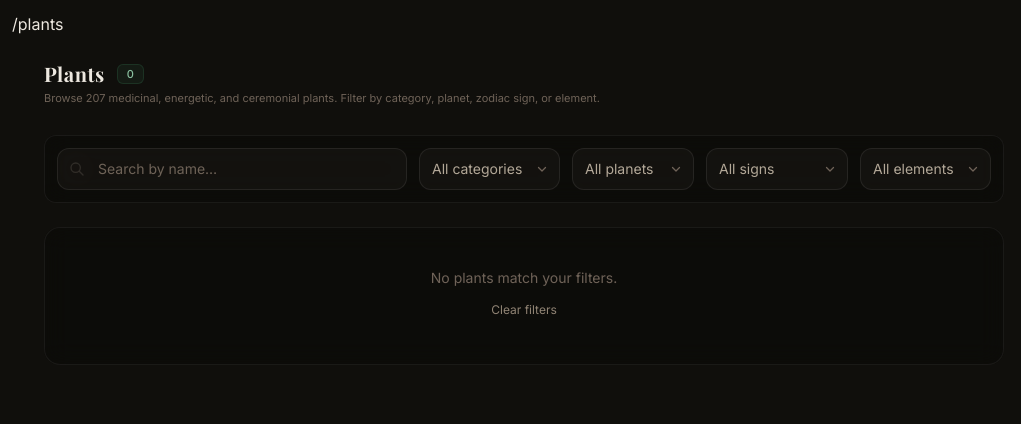
Scenario: PlantList — canonical catalog of 207 plants › typing in the search input narrows results and syncs the URL
Expected: the heading "Plants" is shown, [44,60,105,88]
Type "rose" into the search field labelled "Search by name…" at x=232, y=168, box [57,148,407,190]
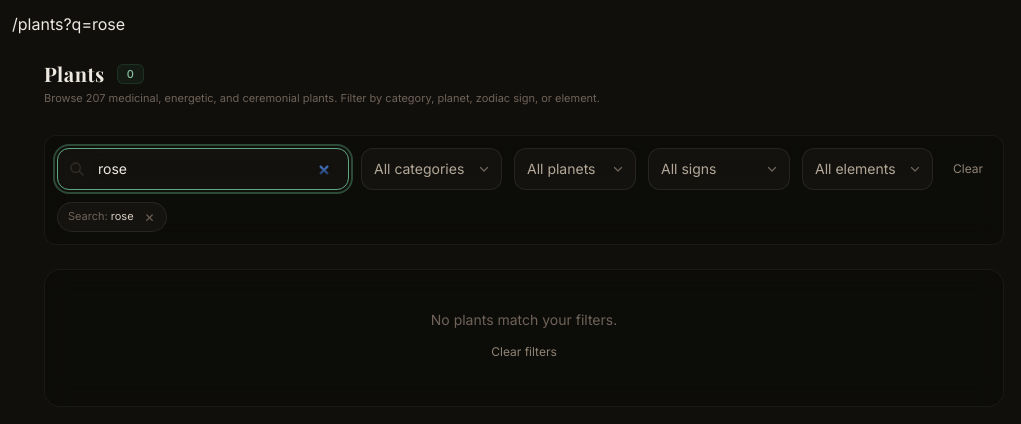
Now the text with test id "location-probe" shows "q=rose", box [12,14,125,34]
